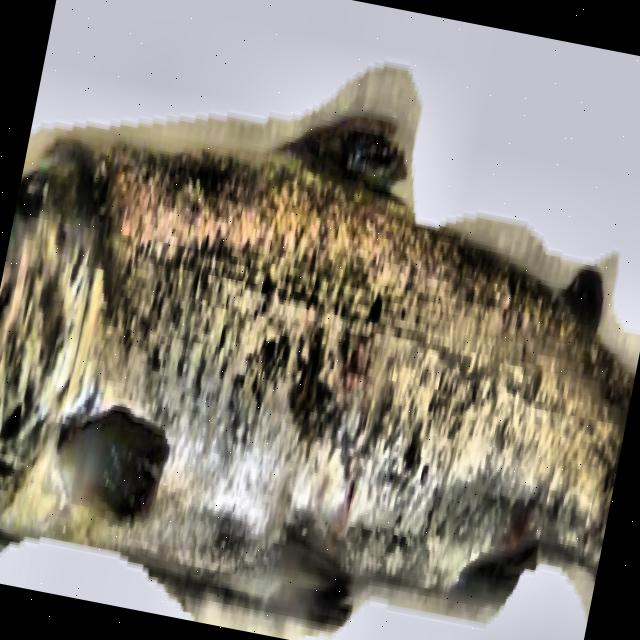mild_red: (0, 147, 635, 586)
